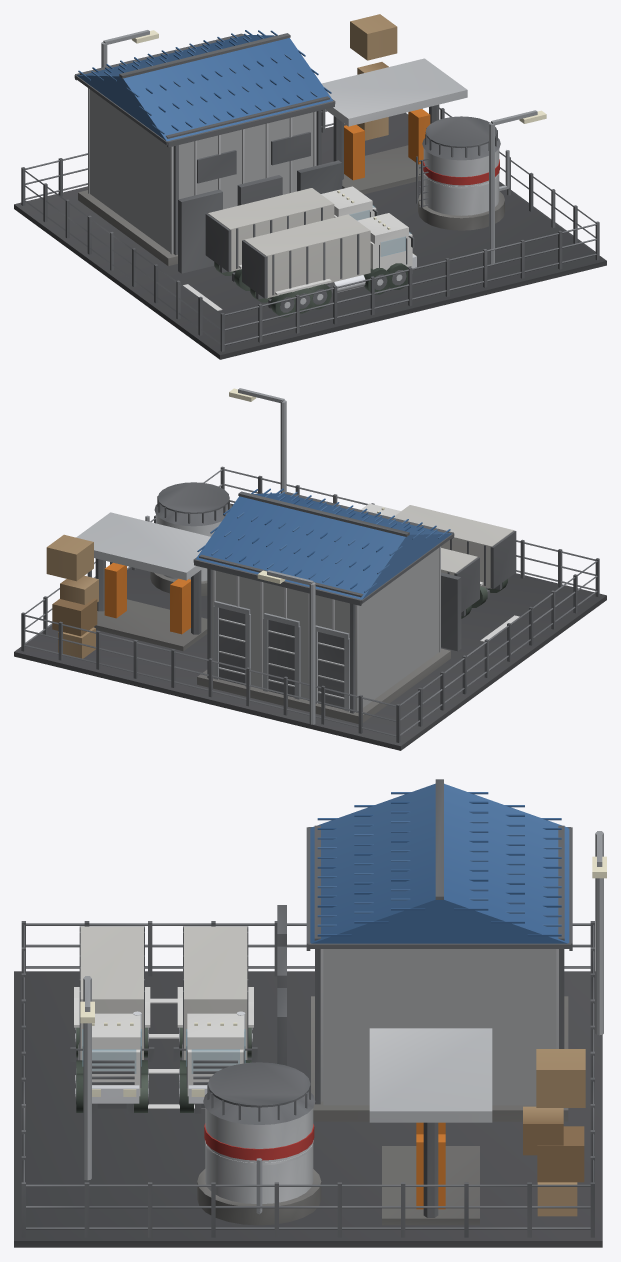
The model's file is Fleet_P2.fbx.
The picture shows the model from 3 angles, top to bottom: view 1: azimuth 30°, elevation 25°; view 2: azimuth 150°, elevation 25°; view 3: azimuth 270°, elevation 25°; orthographic projection. The views are drawn at different scales.
Visible parts, largest first — view 1: Fleet.Garage, Fleet.Yard, Fleet.Parked1, Fleet.FuelIsland, Fleet.Fence, Fleet.FuelTank, Fleet.Parked0, Fleet.Doors, Fleet.Crates, Fleet.Lamp1, Fleet.Lamp0; view 2: Fleet.Garage, Fleet.Yard, Fleet.FuelIsland, Fleet.Fence, Fleet.Crates, Fleet.Parked1, Fleet.FuelTank, Fleet.Doors, Fleet.Parked0, Fleet.Lamp0, Fleet.Lamp1; view 3: Fleet.Garage, Fleet.Yard, Fleet.FuelIsland, Fleet.FuelTank, Fleet.Fence, Fleet.Parked1, Fleet.Parked0, Fleet.Crates, Fleet.Lamp1, Fleet.Lamp0, Fleet.Doors, Fleet.Bays.
Part boxes in pixels (left/top/right/bottom): Fleet.Garage: left=74, top=30, right=335, bottom=266; Fleet.Yard: left=14, top=113, right=606, bottom=359; Fleet.Parked1: left=242, top=213, right=416, bottom=317; Fleet.FuelIsland: left=321, top=58, right=467, bottom=194; Fleet.Fence: left=21, top=107, right=599, bottom=351; Fleet.FuelTank: left=416, top=116, right=509, bottom=230; Fleet.Parked0: left=205, top=186, right=378, bottom=290; Fleet.Doors: left=178, top=160, right=342, bottom=273; Fleet.Crates: left=350, top=14, right=397, bottom=140; Fleet.Lamp1: left=489, top=110, right=546, bottom=264; Fleet.Lamp0: left=101, top=30, right=158, bottom=67; Fleet.Garage: left=193, top=488, right=454, bottom=723; Fleet.Yard: left=14, top=503, right=606, bottom=750; Fleet.FuelIsland: left=76, top=512, right=210, bottom=651; Fleet.Fence: left=21, top=466, right=599, bottom=742; Fleet.Crates: left=46, top=534, right=98, bottom=658; Fleet.Parked1: left=361, top=503, right=516, bottom=607; Fleet.FuelTank: left=145, top=482, right=231, bottom=595; Fleet.Doors: left=441, top=572, right=461, bottom=651; Fleet.Parked0: left=441, top=548, right=479, bottom=618; Fleet.Lamp0: left=257, top=570, right=315, bottom=724; Fleet.Lamp1: left=229, top=388, right=286, bottom=493; Fleet.Garage: left=306, top=779, right=572, bottom=1121; Fleet.Yard: left=14, top=971, right=602, bottom=1247; Fleet.FuelIsland: left=369, top=1028, right=492, bottom=1225; Fleet.FuelTank: left=197, top=1062, right=321, bottom=1225; Fleet.Fence: left=21, top=921, right=594, bottom=1237; Fleet.Parked1: left=70, top=926, right=154, bottom=1113; Fleet.Parked0: left=173, top=926, right=257, bottom=1113; Fleet.Crates: left=523, top=1049, right=585, bottom=1216; Fleet.Lamp1: left=80, top=976, right=94, bottom=1180; Fleet.Lamp0: left=592, top=831, right=606, bottom=1035; Fleet.Doors: left=277, top=905, right=286, bottom=1065; Fleet.Bays: left=148, top=998, right=204, bottom=1108.
Size of the model in its own units: 2600 by 1050 by 2418.
